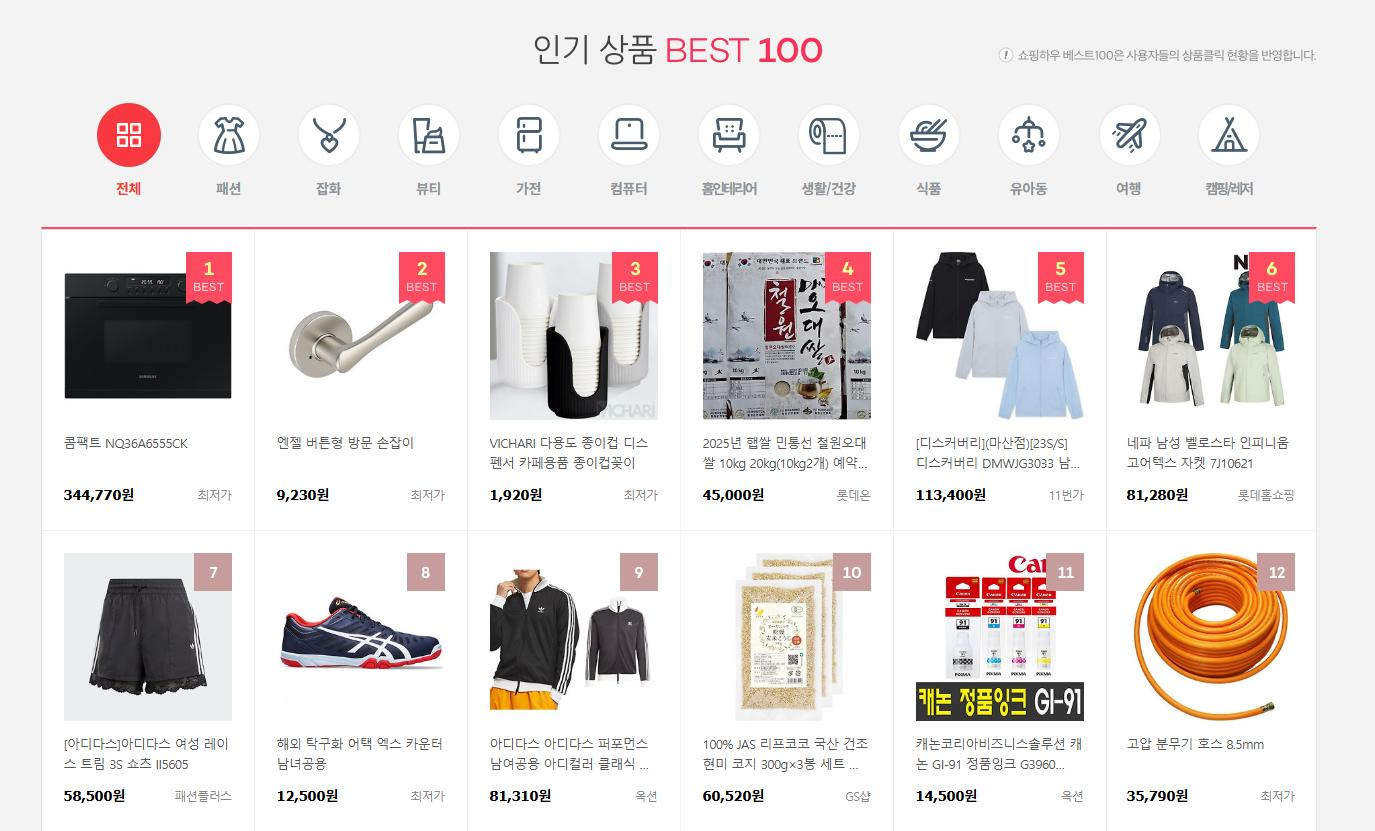button: (480, 237, 680, 513), (902, 243, 1095, 515), (482, 542, 678, 808), (1115, 247, 1305, 519), (1121, 546, 1314, 806), (693, 542, 883, 805), (269, 547, 457, 808), (56, 248, 240, 514), (272, 247, 460, 506), (702, 246, 886, 509), (54, 547, 237, 809), (912, 544, 1089, 806), (289, 83, 377, 206), (387, 89, 478, 206), (493, 89, 582, 204), (190, 87, 281, 199), (988, 98, 1069, 205), (791, 98, 863, 207), (898, 94, 969, 201), (603, 100, 676, 204), (97, 88, 160, 202), (694, 103, 768, 200), (1196, 98, 1265, 201), (1099, 105, 1166, 202)
